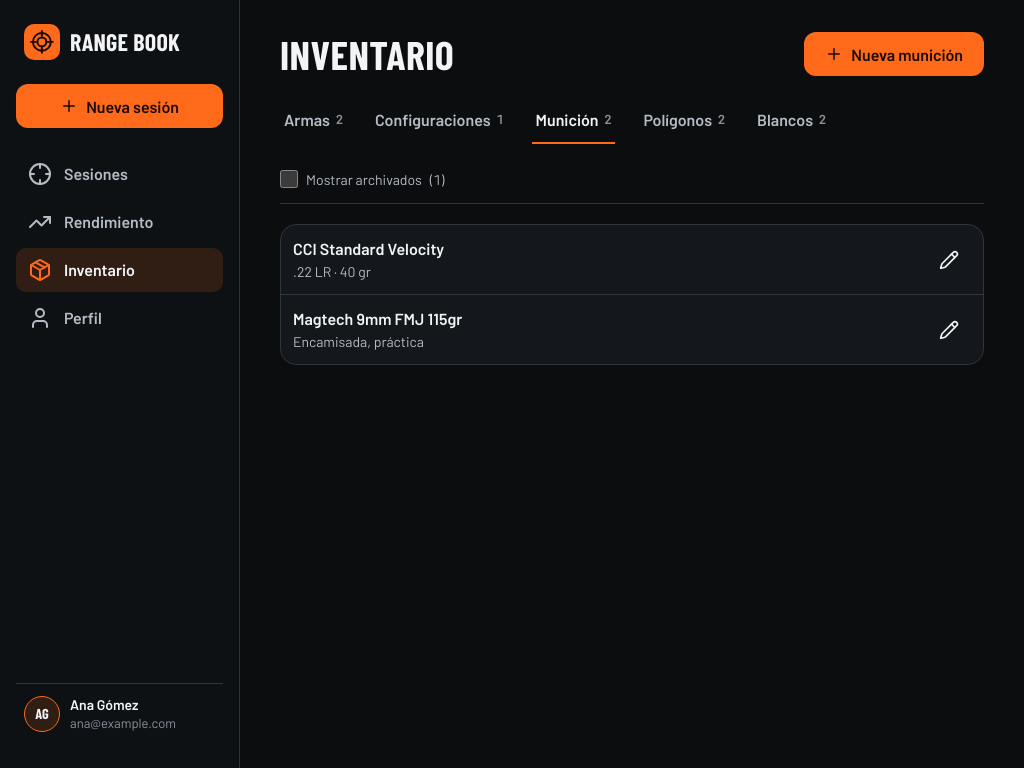
Test: InventoryScreen › con "Mostrar archivados" aparece marcado y se puede restaurar
Click the checkbox labelled "Mostrar archivados (1)" at (289, 179), box [280,170,298,188]
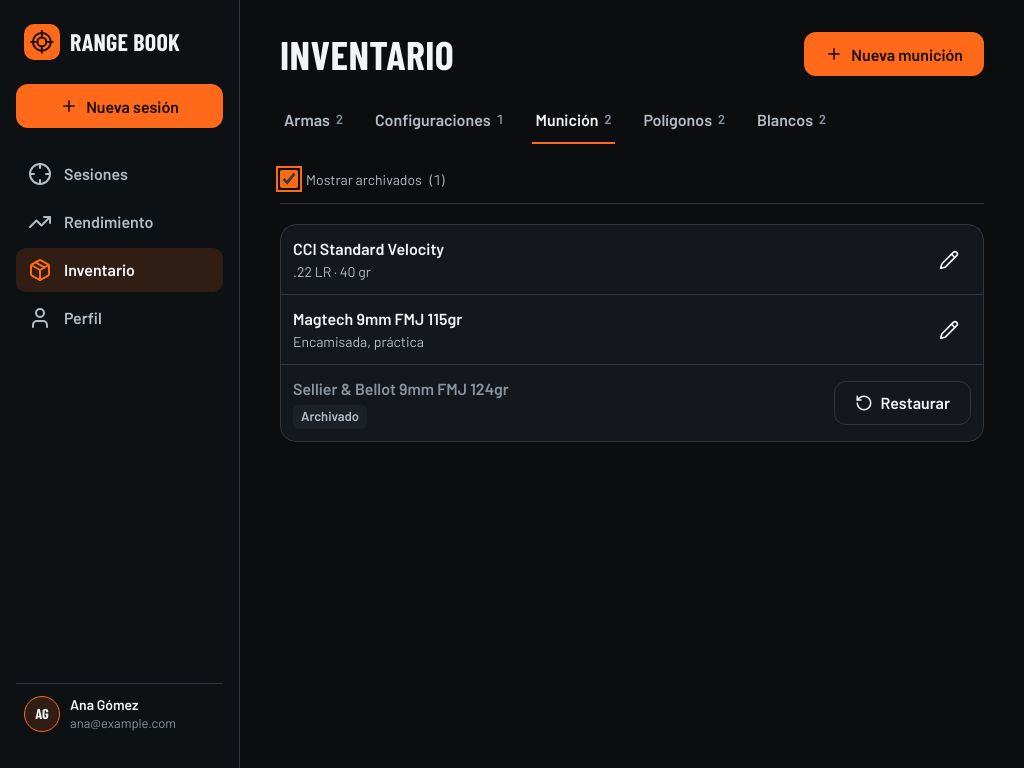
Expected: the list item "Sellier & Bellot 9mm FMJ 124gr Archivado Restaurar" is shown, [281,365,983,440]
Click the button with aria-label "Restaurar Sellier & Bellot 9mm FMJ 124gr" at (902, 403), box [834,381,971,425]
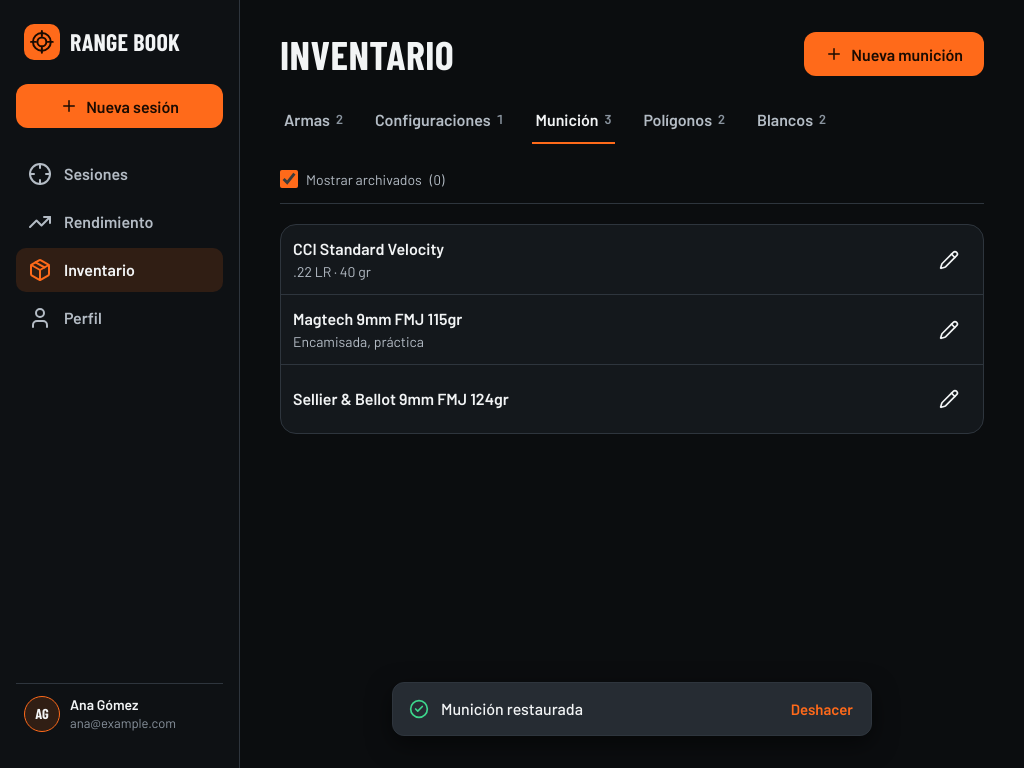
Expected: the text "Munición restaurada" is shown, [441,699,583,718]
Expected: the tab "Munición 3" is shown, [532,96,616,144]
